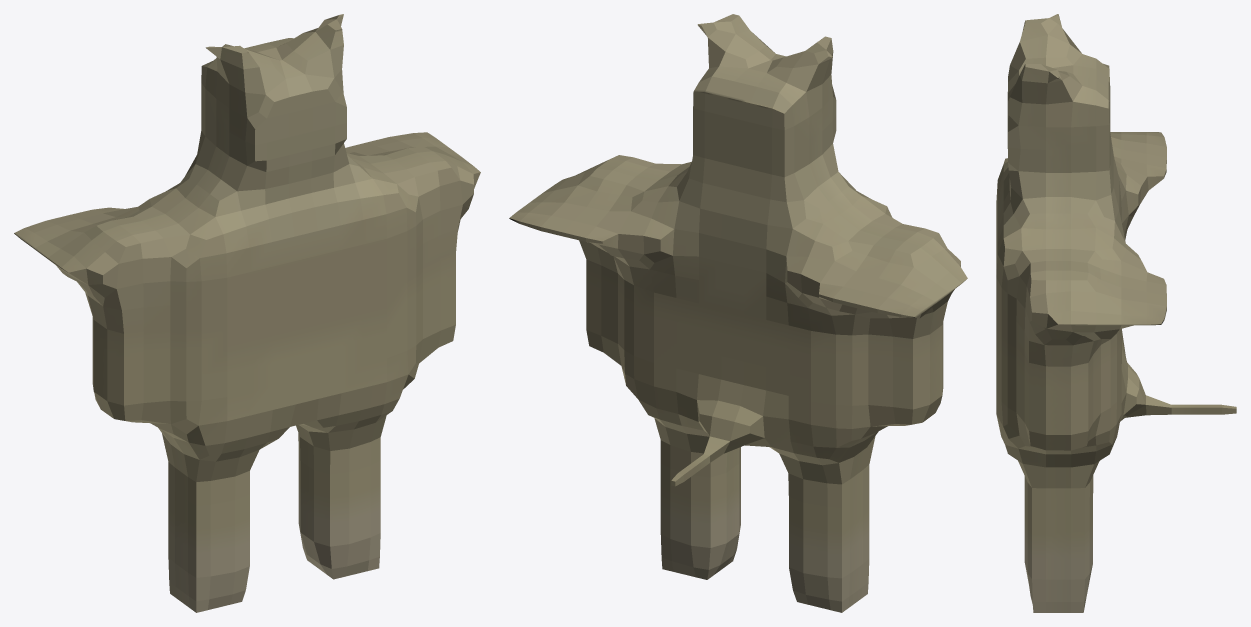
The model's file is yaksha.glb.
3 renders of one model, left to right at view 1: azimuth 30°, elevation 25°; view 2: azimuth 150°, elevation 25°; view 3: azimuth 270°, elevation 25°, orthographic. The views are drawn at different scales.
Visible parts, largest first — view 1: geometry_0; view 2: geometry_0; view 3: geometry_0.
Boxes of the visible parts, left/top/right/bottom form: geometry_0: left=14, top=14, right=480, bottom=612; geometry_0: left=509, top=14, right=967, bottom=612; geometry_0: left=996, top=14, right=1236, bottom=612.
Size of the model in its own units: 0.7553 by 0.963 by 0.3981.
1 material, 1 textured.
